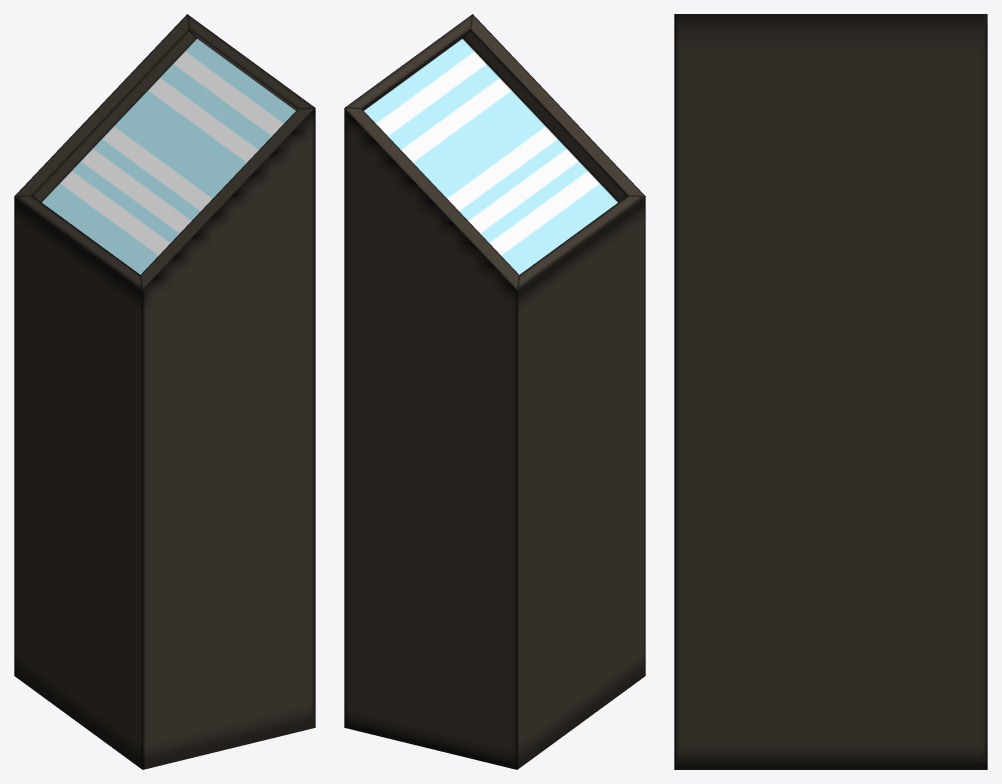
File: Terminal.fbx
3 renders of one model, left to right at view 1: azimuth 30°, elevation 25°; view 2: azimuth 150°, elevation 25°; view 3: azimuth 270°, elevation 25°, orthographic. The views are drawn at different scales.
Parts seen in each view (by area): view 1: pCube3; view 2: pCube3; view 3: pCube3.
Boxes of the visible parts, box(x1,y1,x2,y2) form: pCube3: box(14, 14, 315, 769); pCube3: box(344, 14, 645, 769); pCube3: box(674, 14, 987, 769).
Size of the model in its own units: 0.004 by 0.0137 by 0.00515.
1 material, 1 textured.
